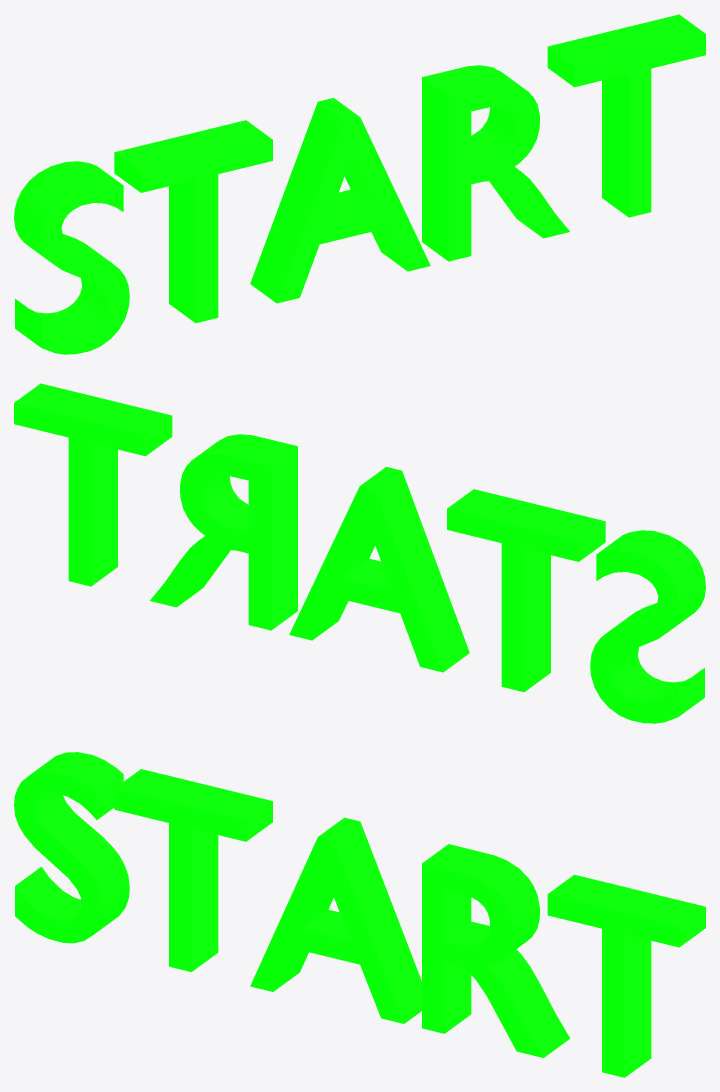
Rendered from text-start.glb.
3 renders of one model, top to bottom at view 1: azimuth 30°, elevation 25°; view 2: azimuth 150°, elevation 25°; view 3: azimuth 330°, elevation 25°, orthographic.
Visible parts, largest first — view 1: Text; view 2: Text; view 3: Text.
Part boxes in pixels (x1,y1,x2,y2): Text: (14, 14, 705, 354); Text: (14, 383, 705, 723); Text: (14, 752, 705, 1077).
Size of what is drawn, in the model's own units: 2.88 by 0.6995 by 0.2.
